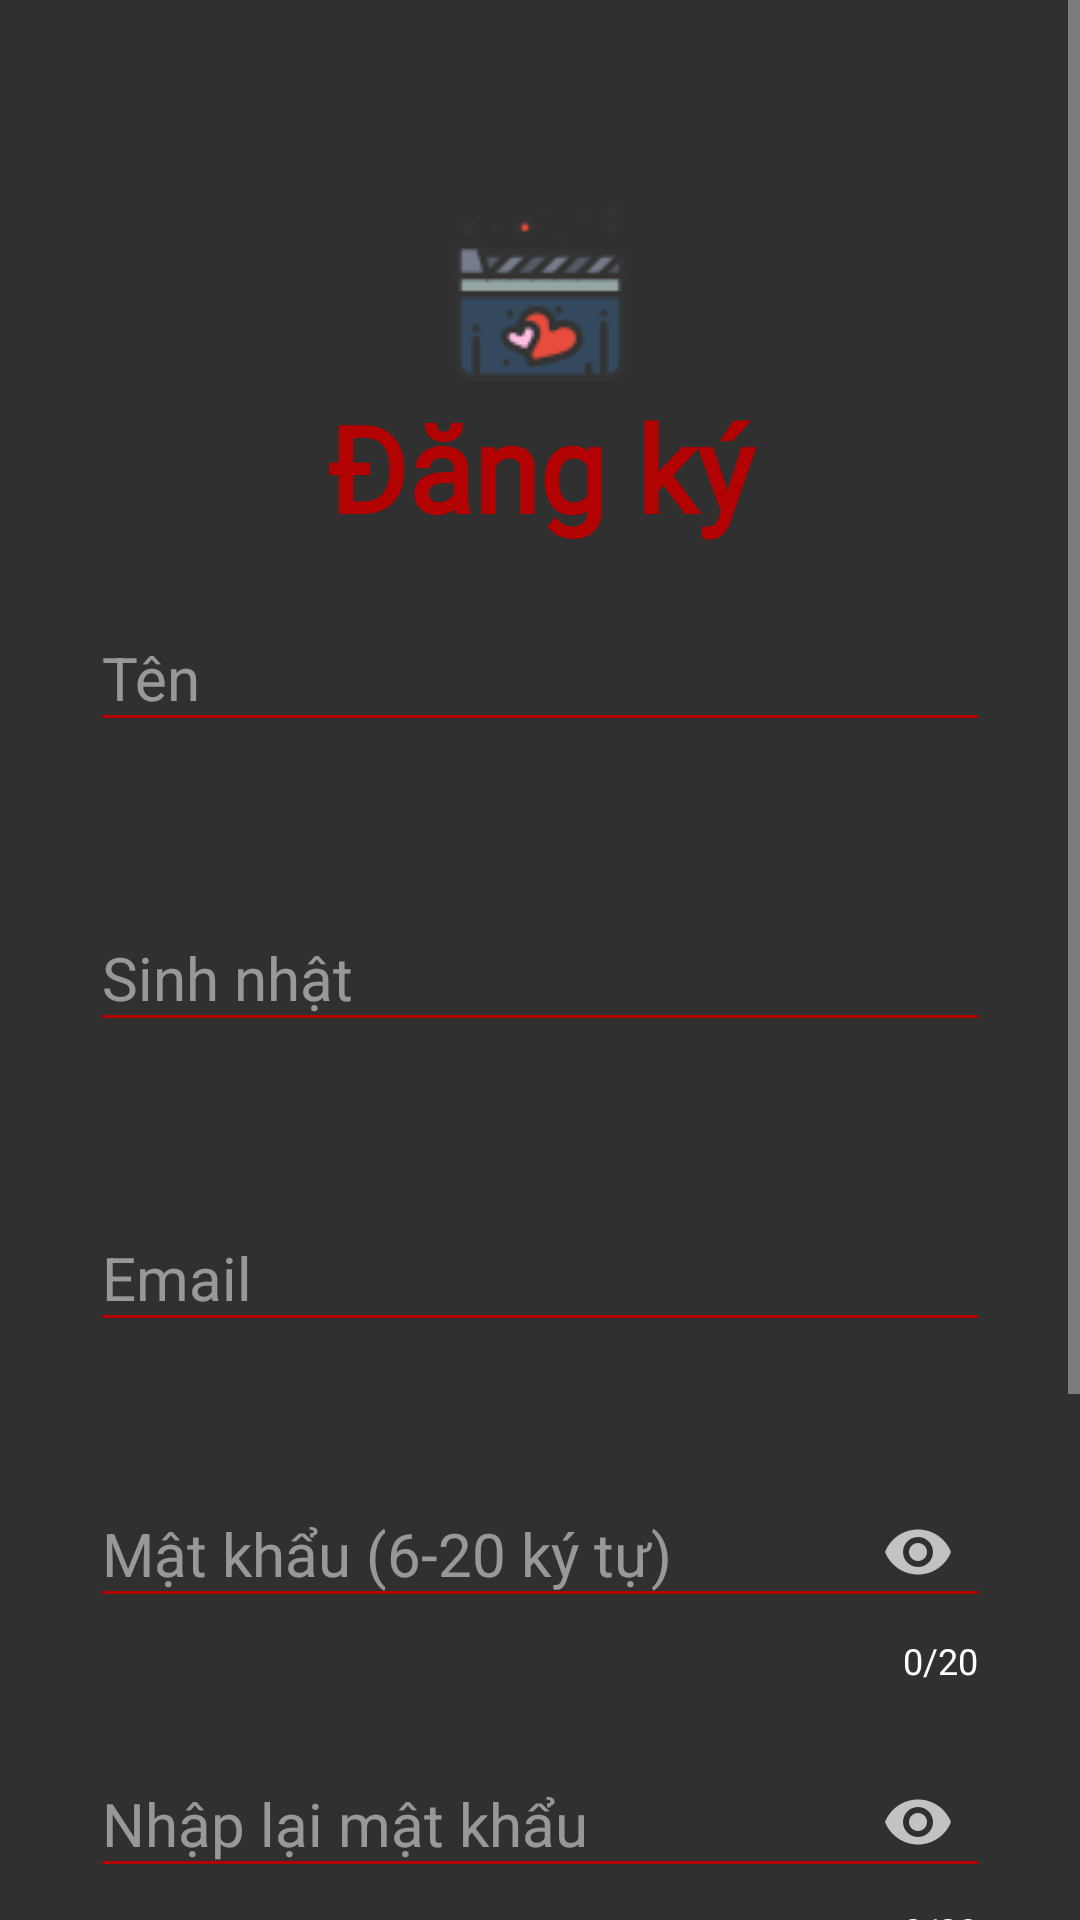

Screen size 1080 × 1920. Icon name, then its box in pixels as (left=x1, top=y1, right=x2, bottom=y2):
film: (left=460, top=222, right=620, bottom=374)
